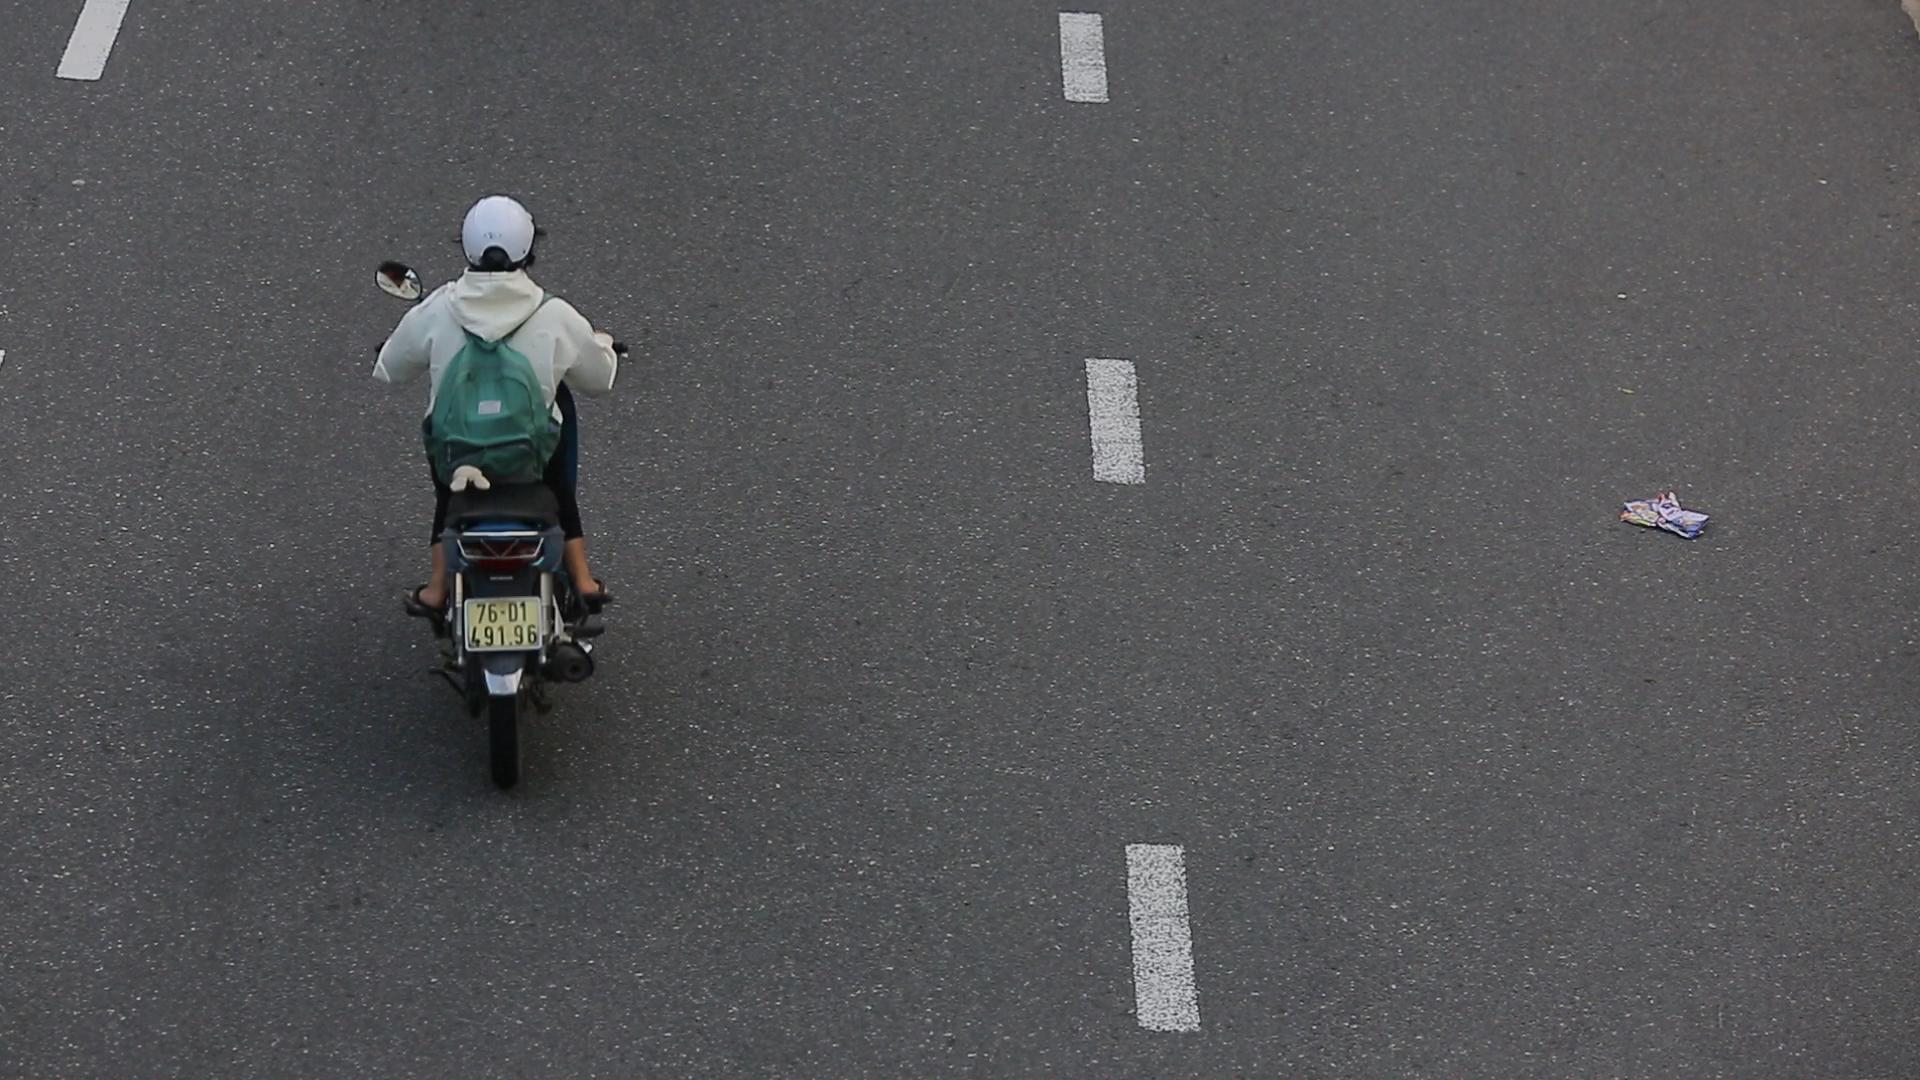motobike: (343, 137, 649, 820)
